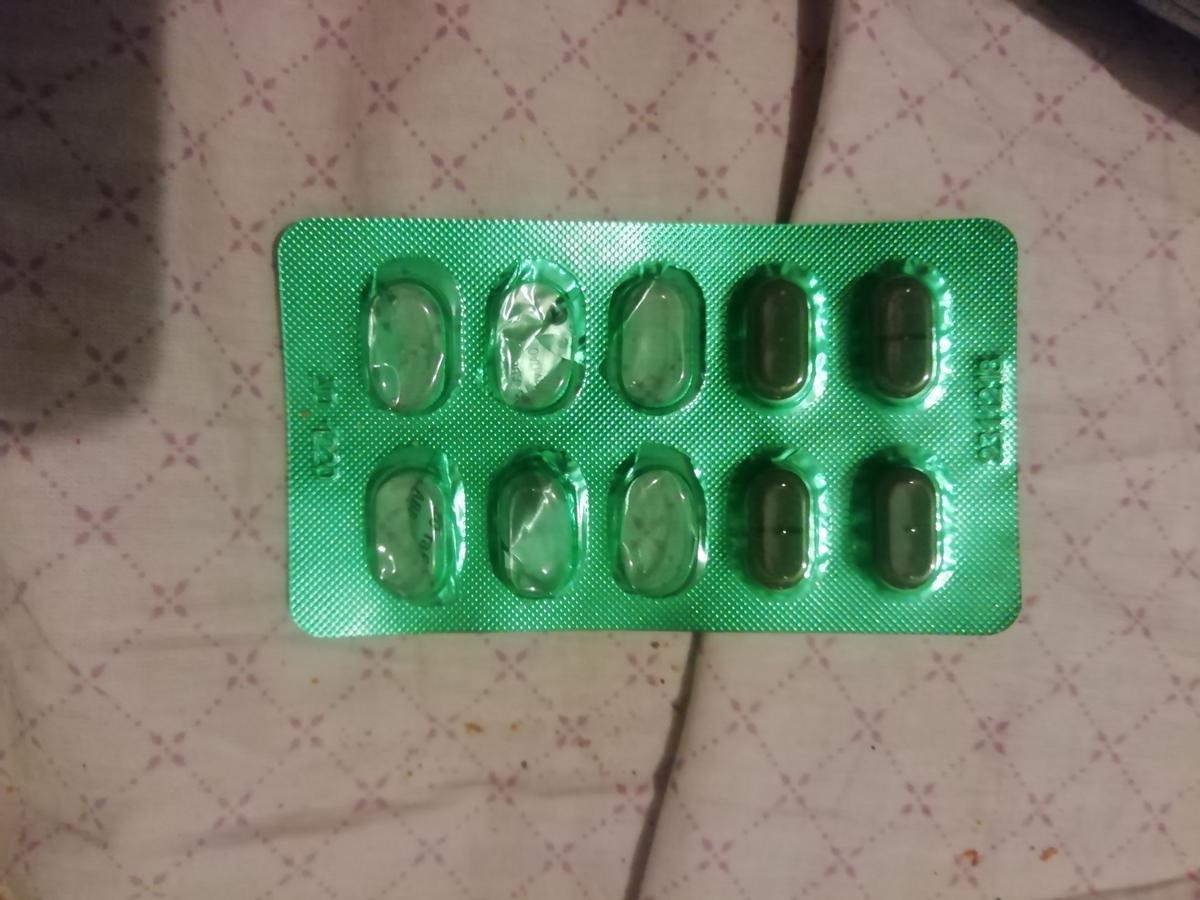tablet: (741, 271, 814, 411), (868, 267, 941, 407), (745, 452, 818, 592), (872, 454, 945, 594), (870, 452, 943, 592)
